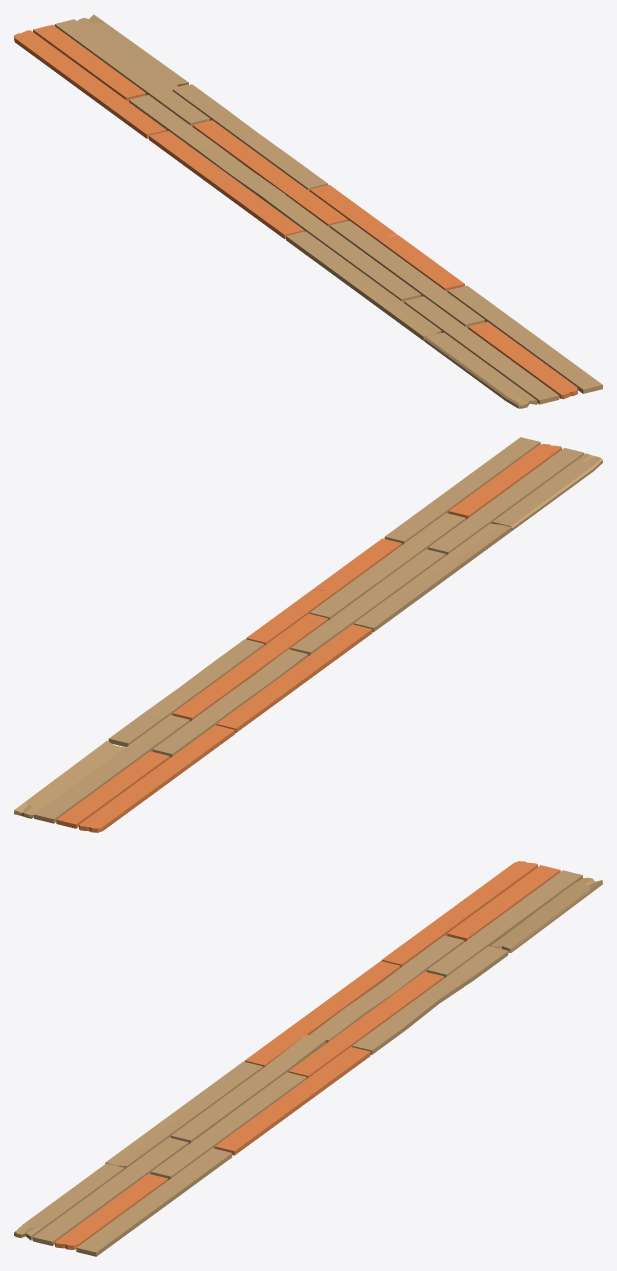
File: bridge.fbx
3 renders of one model, top to bottom at view 1: azimuth 30°, elevation 25°; view 2: azimuth 150°, elevation 25°; view 3: azimuth 330°, elevation 25°, orthographic.
Parts seen in each view (by area): view 1: Bridge_main; view 2: Bridge_main; view 3: Bridge_main.
Part boxes in pixels (x1,y1,x2,y2): Bridge_main: (14,14,602,408); Bridge_main: (14,437,602,832); Bridge_main: (14,861,602,1256).
Bounding box in the file's own units: 975 × 79.16 × 9993.
